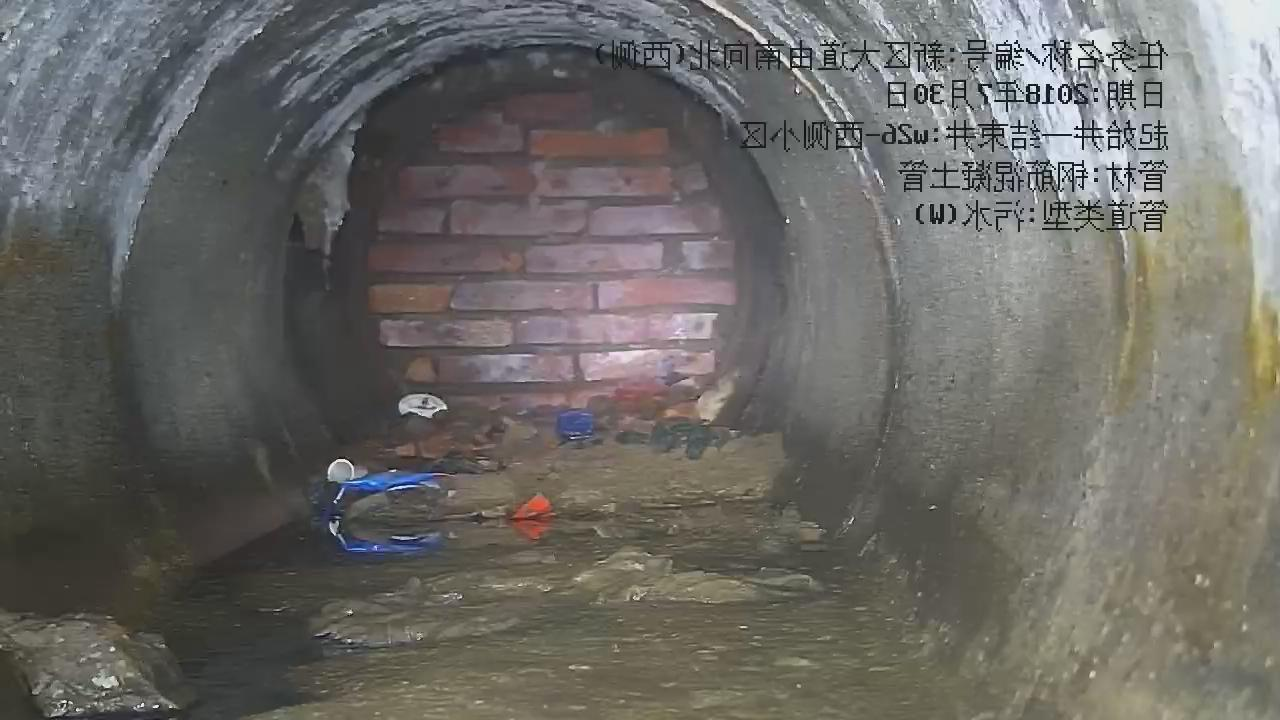CJ: (181, 411, 919, 719)
CQBG: (329, 51, 783, 420)
